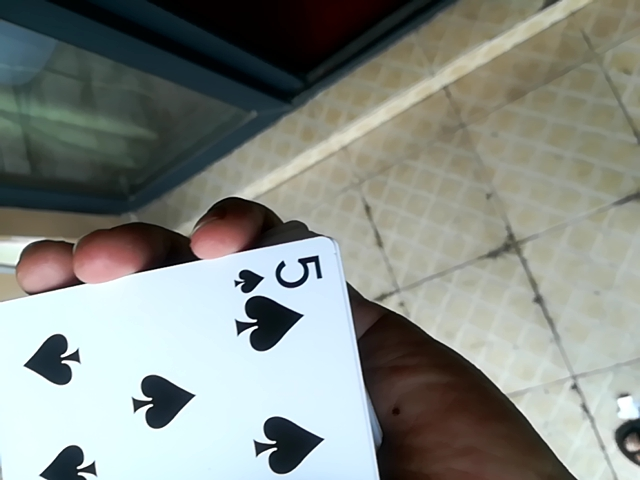ht 5: (1, 233, 396, 480)
